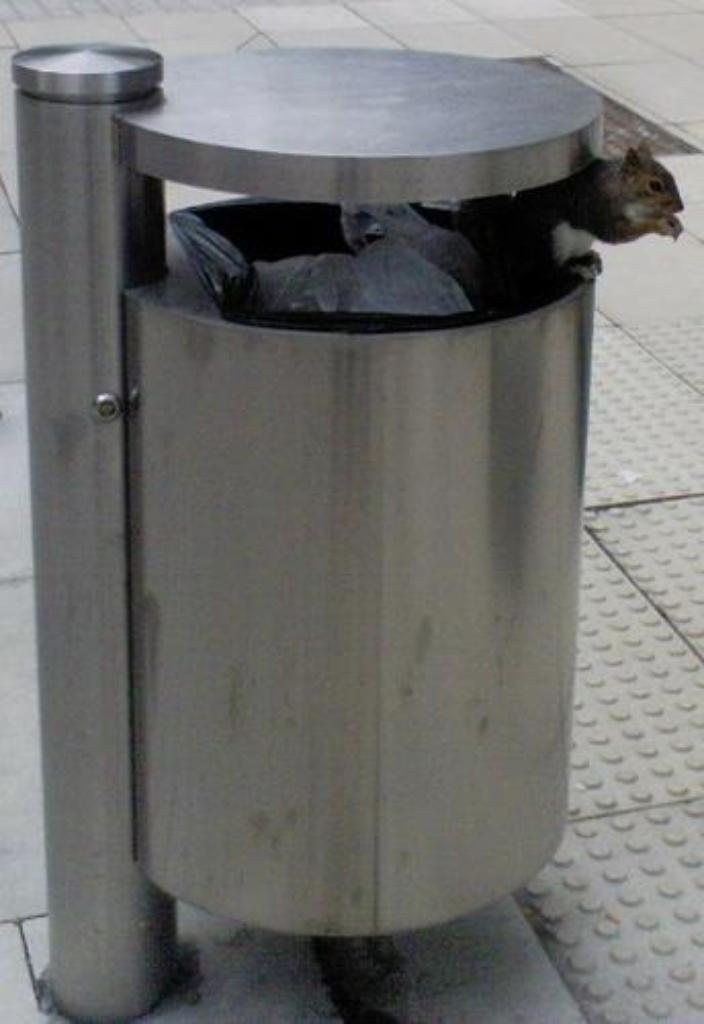dustbin: (10, 33, 602, 999)
